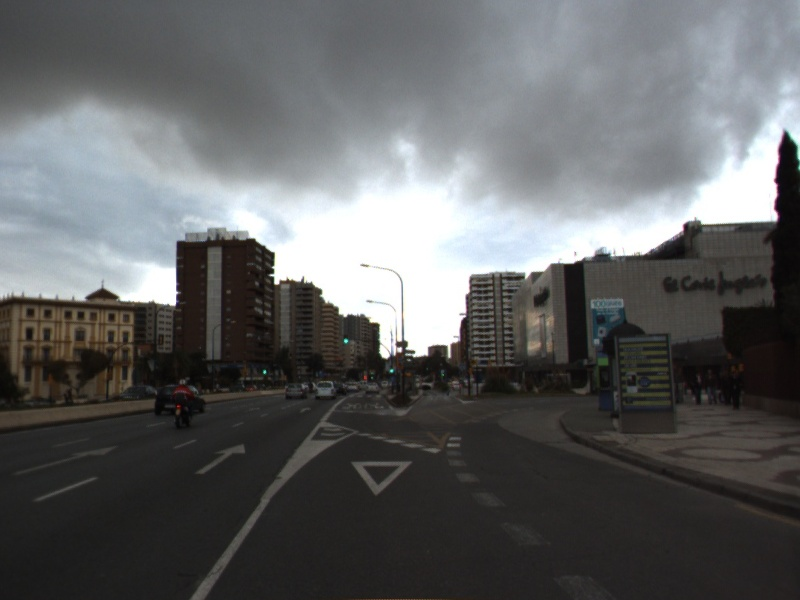STRAIGHT: (11, 444, 122, 477), (193, 441, 248, 476)
